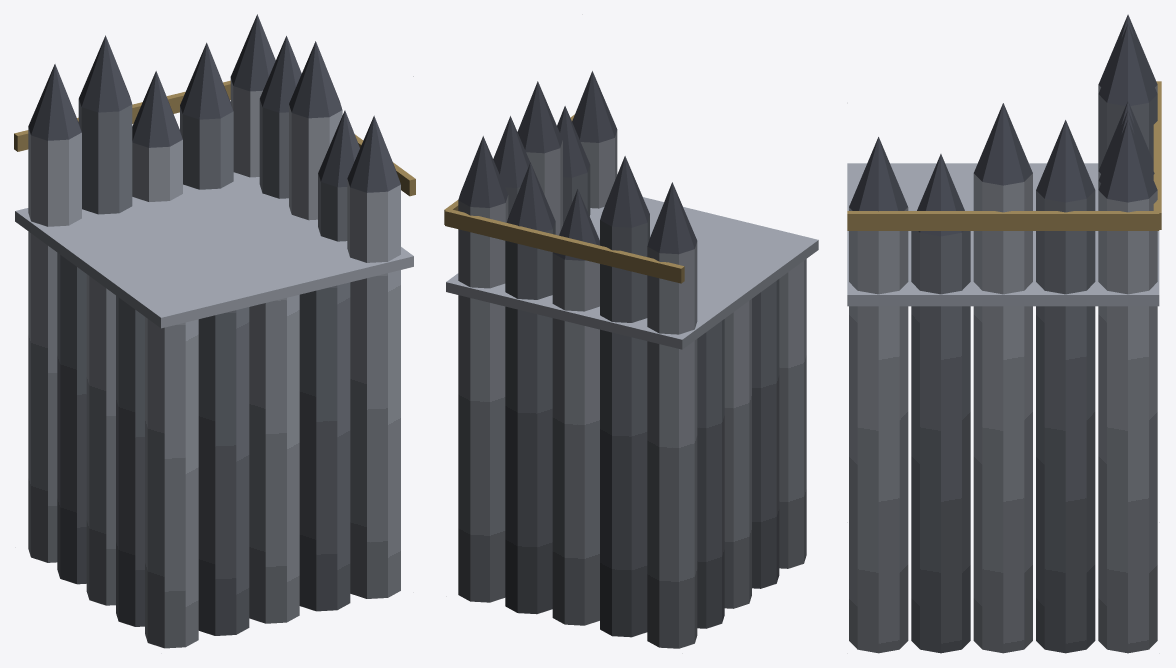
Rendered from perimeter_wall_metal_f12.glb.
3 views of the same model, side by side, from view 1: azimuth 30°, elevation 25°; view 2: azimuth 150°, elevation 25°; view 3: azimuth 270°, elevation 25° (orthographic). The views are drawn at different scales.
Bounding box in the file's own units: 2.01 × 3.9 × 2.01.
Materials: 1 (1 with a texture image).
